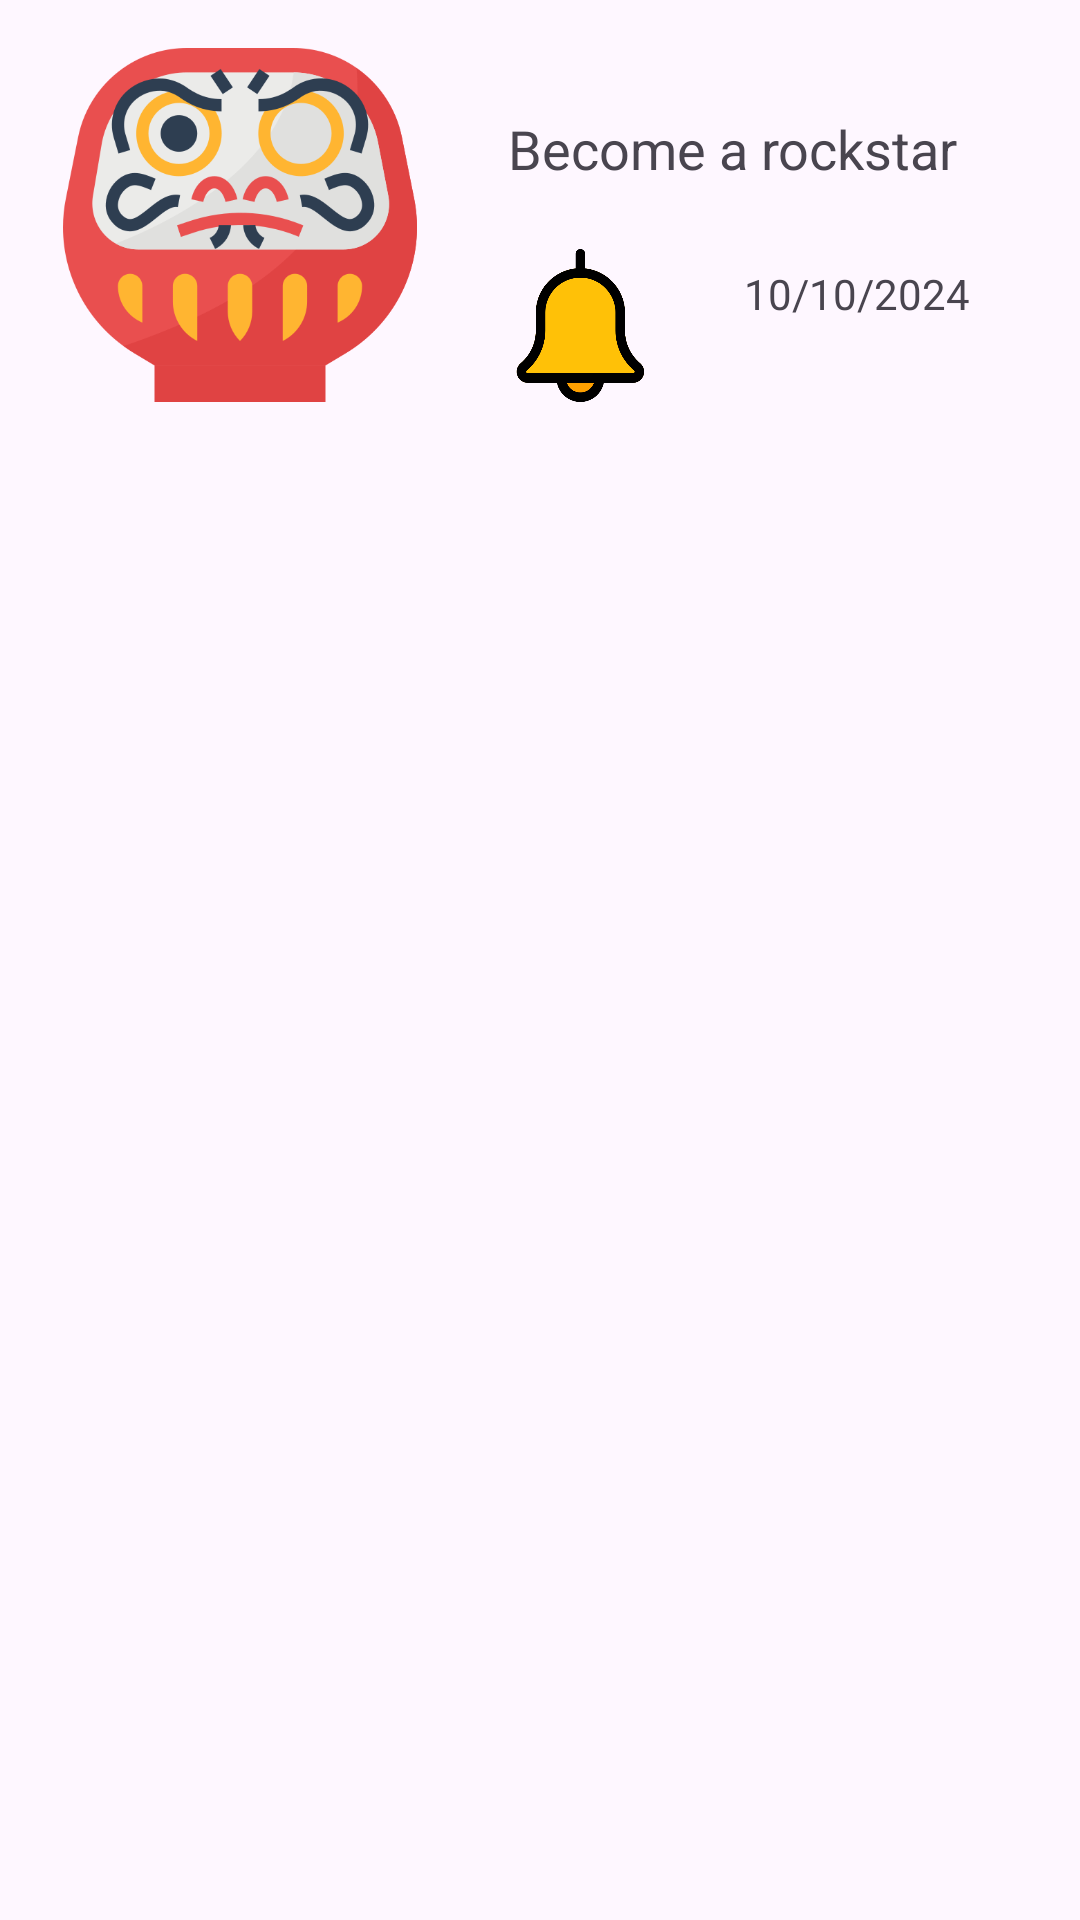

Screen size 1080 × 1920. Icon name, then its box in pixels as {"left": x1, "top": y1, "right": x2, "bottom": y2}:
bell: {"left": 516, "top": 249, "right": 644, "bottom": 402}
daruma: {"left": 63, "top": 48, "right": 417, "bottom": 402}
